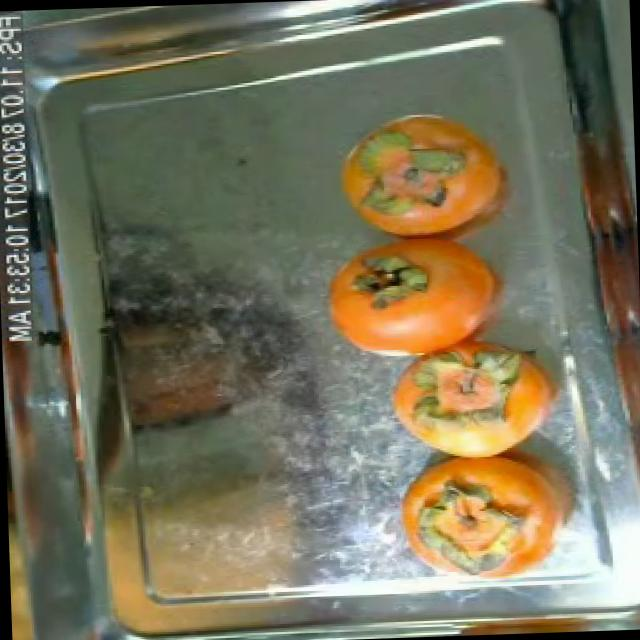Fruit: (88, 294, 254, 444), (325, 98, 486, 250), (373, 347, 531, 472), (305, 243, 465, 364)
